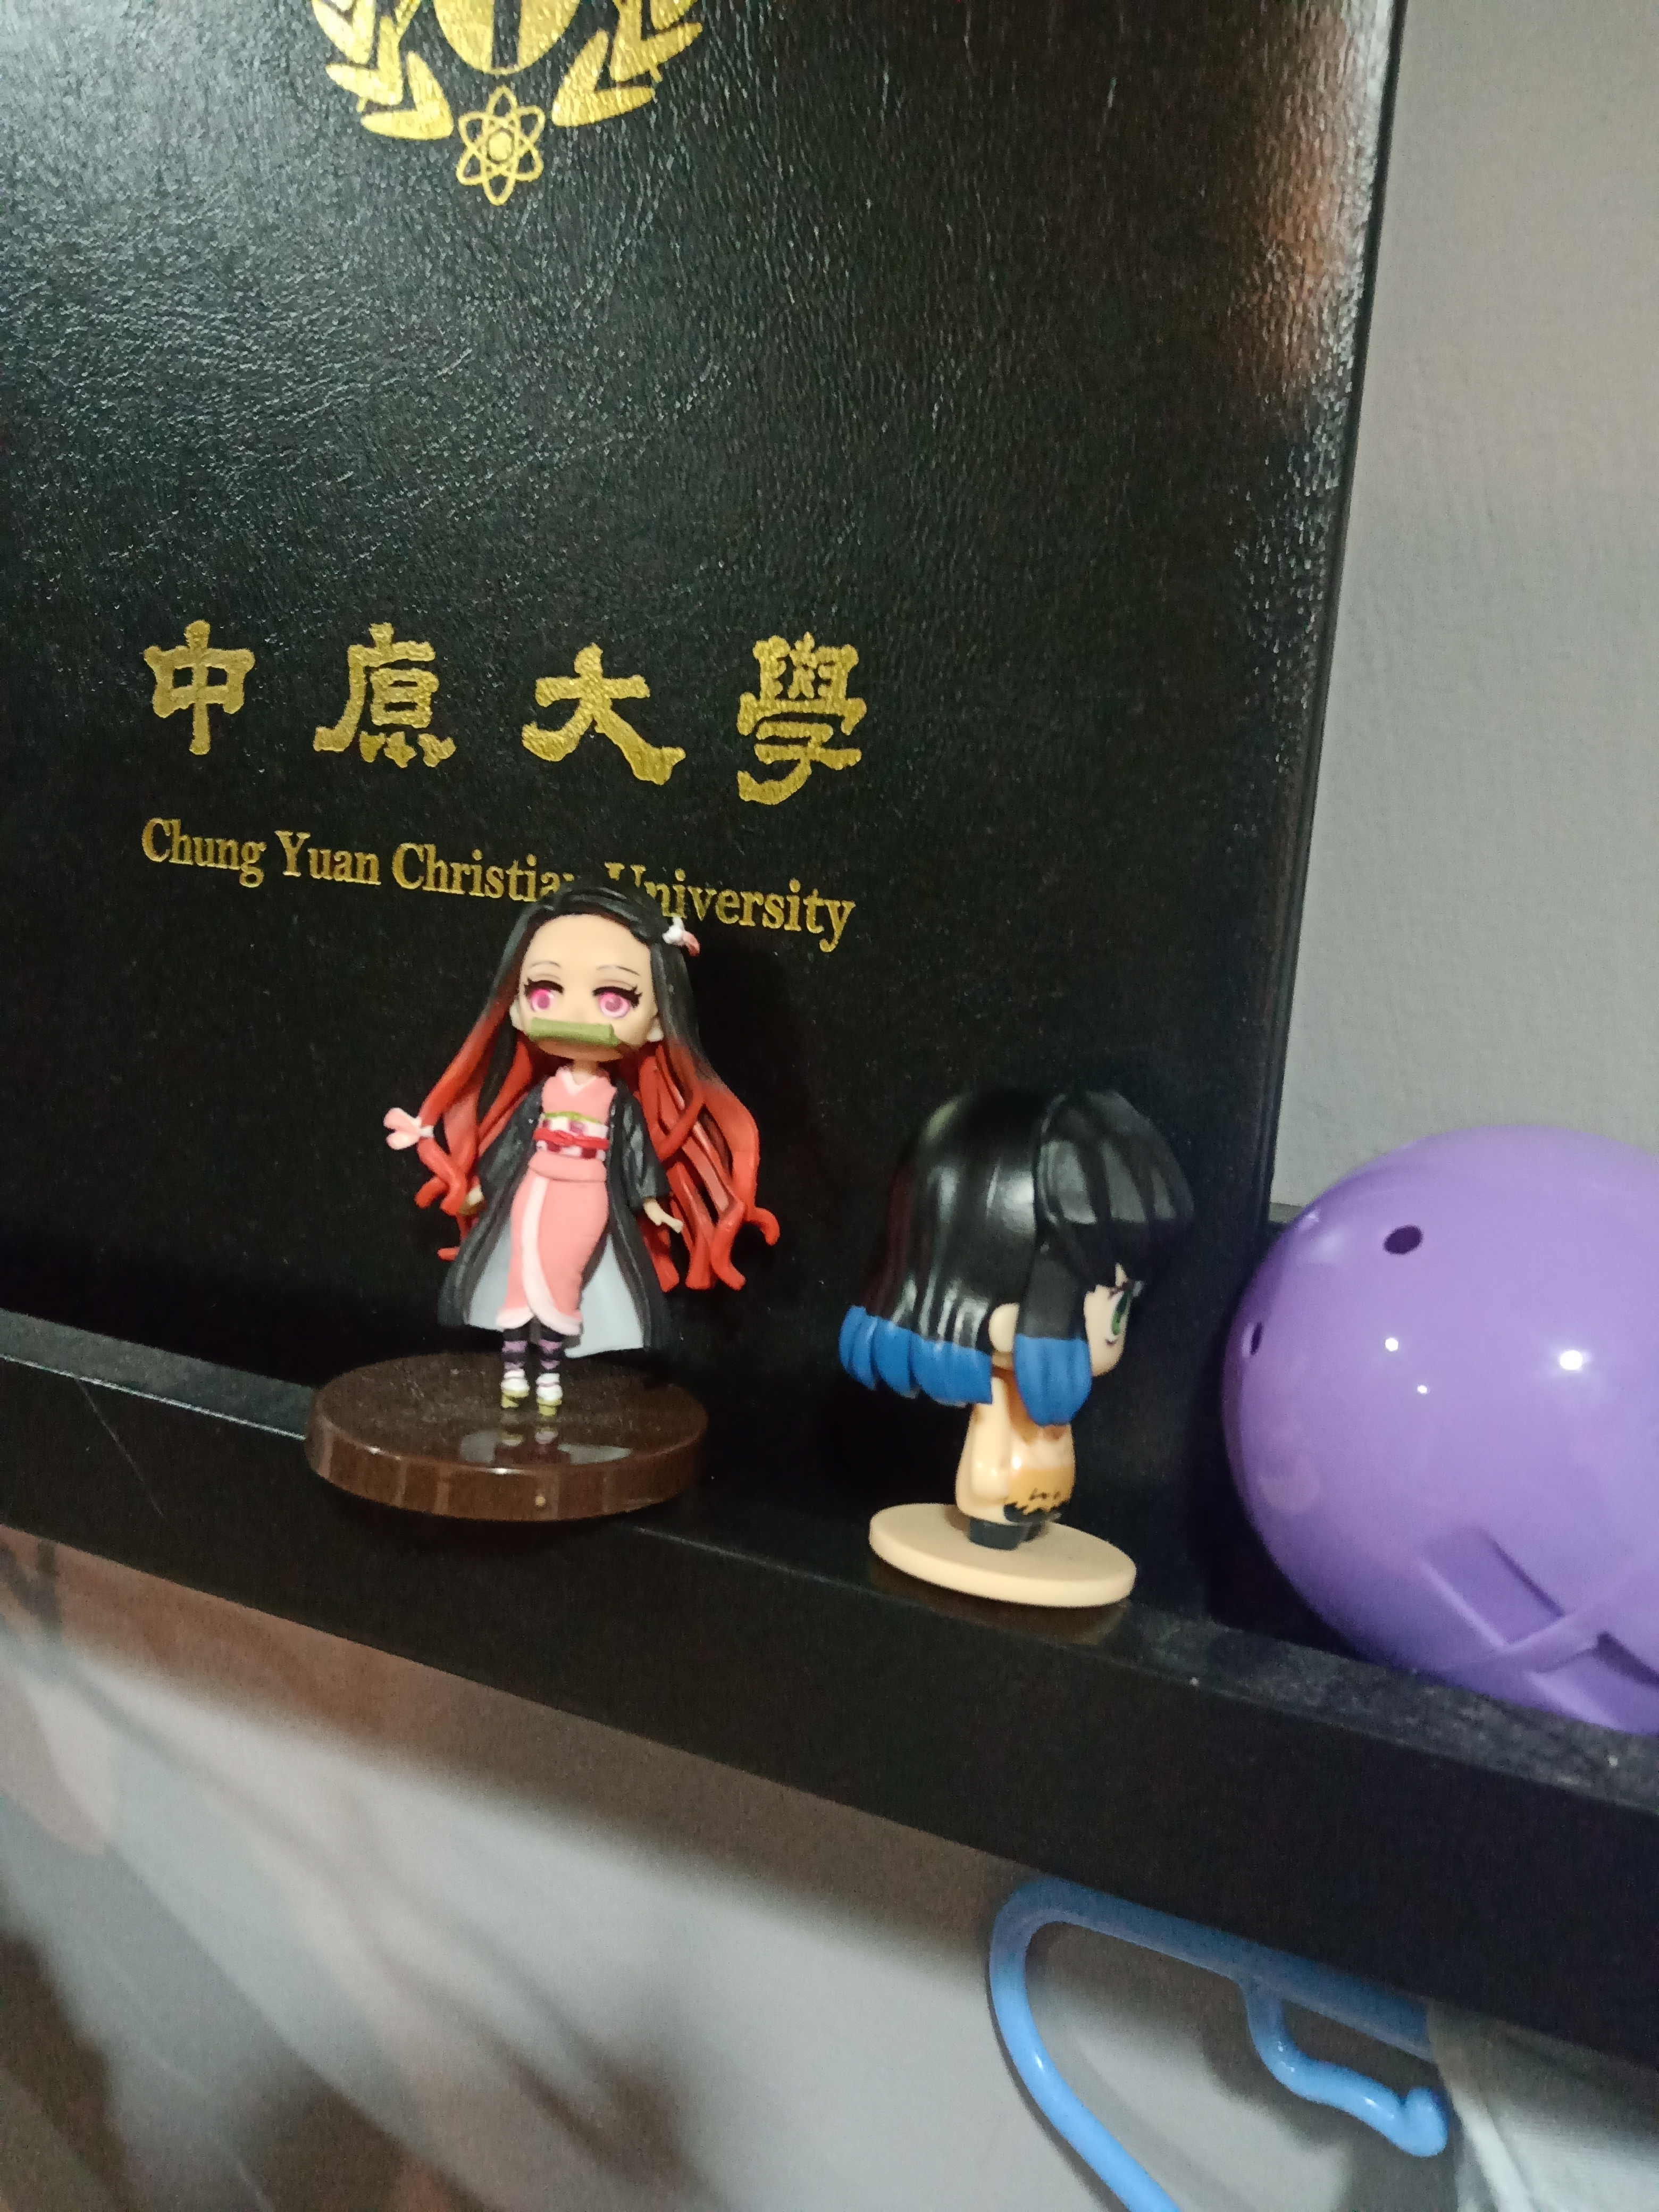Inosuke: (829, 1061, 1232, 1635)
Nezuko: (296, 867, 802, 1540)
